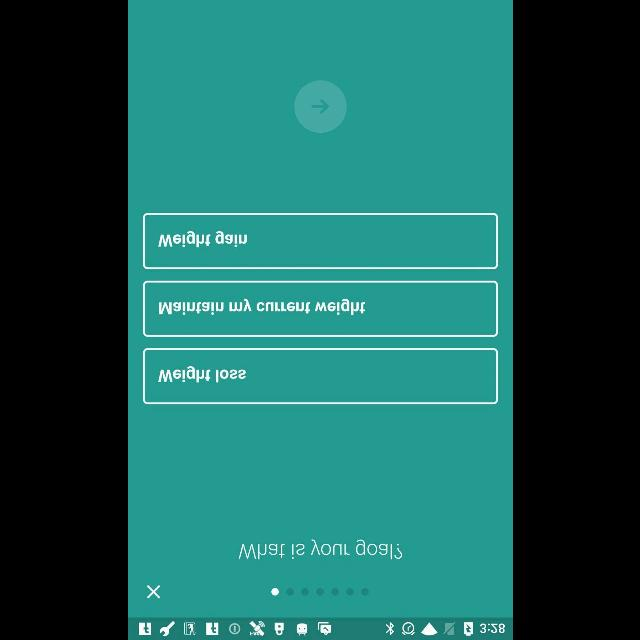button: (294, 80, 346, 132)
icon: (146, 584, 160, 598)
pageindicator: (270, 587, 368, 595)
text: (238, 539, 402, 559)
textbutton: (142, 280, 498, 338), (142, 213, 498, 269), (142, 348, 498, 404)
uppertaskbar: (128, 617, 512, 639)
